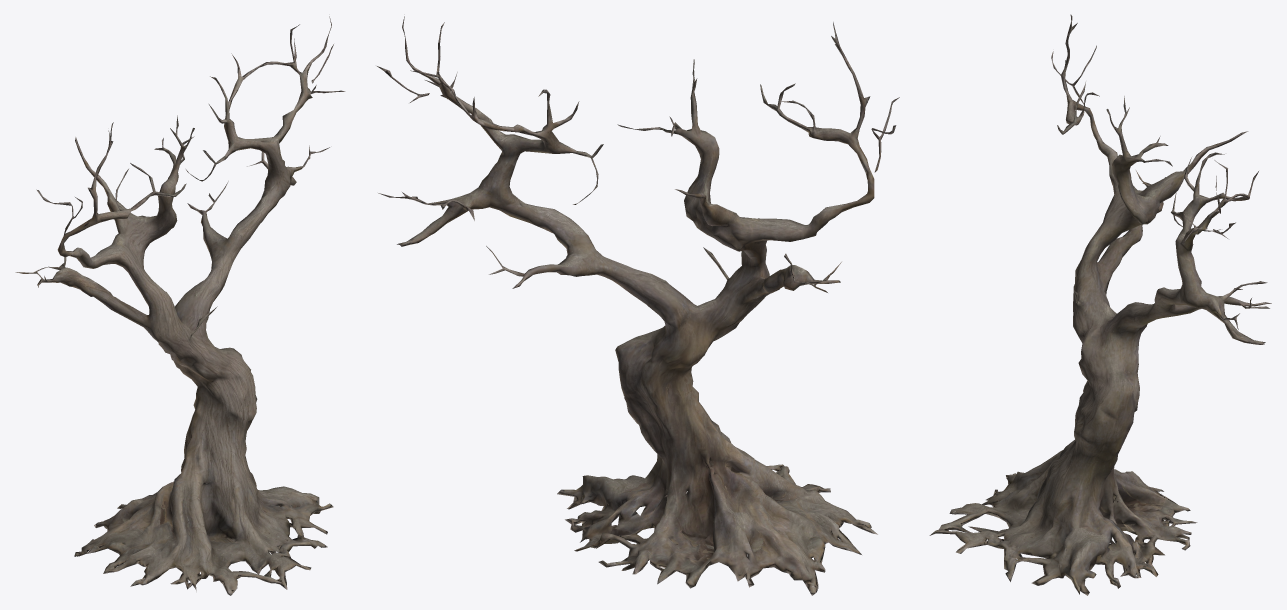
The model's file is pohon_dry.glb.
3 renders of one model, left to right at view 1: azimuth 30°, elevation 25°; view 2: azimuth 150°, elevation 25°; view 3: azimuth 270°, elevation 25°, orthographic. The views are drawn at different scales.
Visible parts, largest first — view 1: Mesh_0.001; view 2: Mesh_0.001; view 3: Mesh_0.001.
Boxes of the visible parts, x1=… form: Mesh_0.001: x1=15, y1=16, x2=345, y2=595; Mesh_0.001: x1=377, y1=16, x2=899, y2=595; Mesh_0.001: x1=929, y1=14, x2=1271, y2=595.
Bounding box in the file's own units: 6.51 × 7.73 × 5.05.
Materials: 1 (1 with a texture image).
